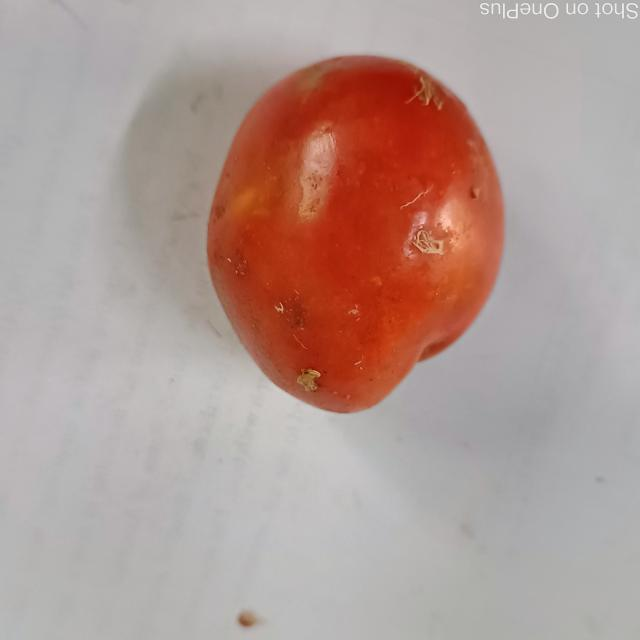Bacterial_Spot: (288, 362, 329, 396)
